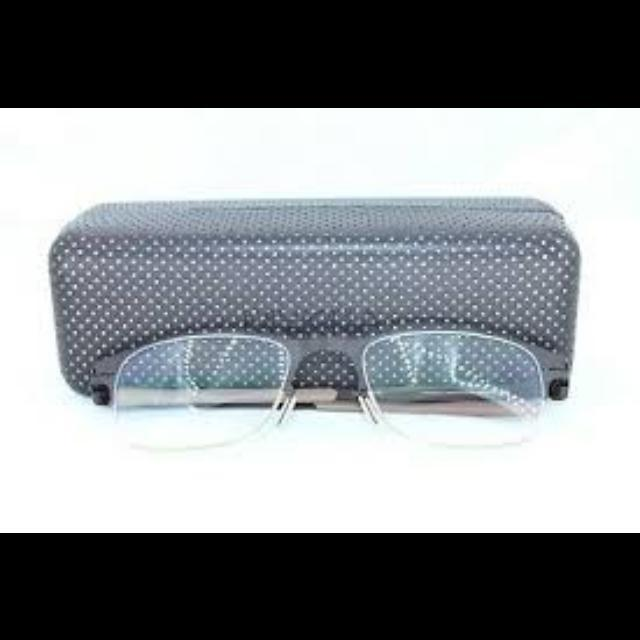glasses: (84, 332, 568, 452)
